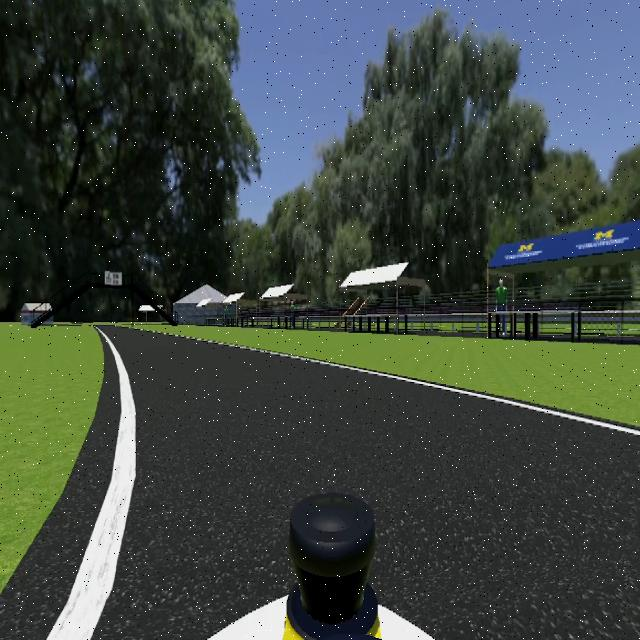road: (92, 331, 640, 640)
solid_line: (174, 335, 640, 438), (45, 331, 137, 640)
